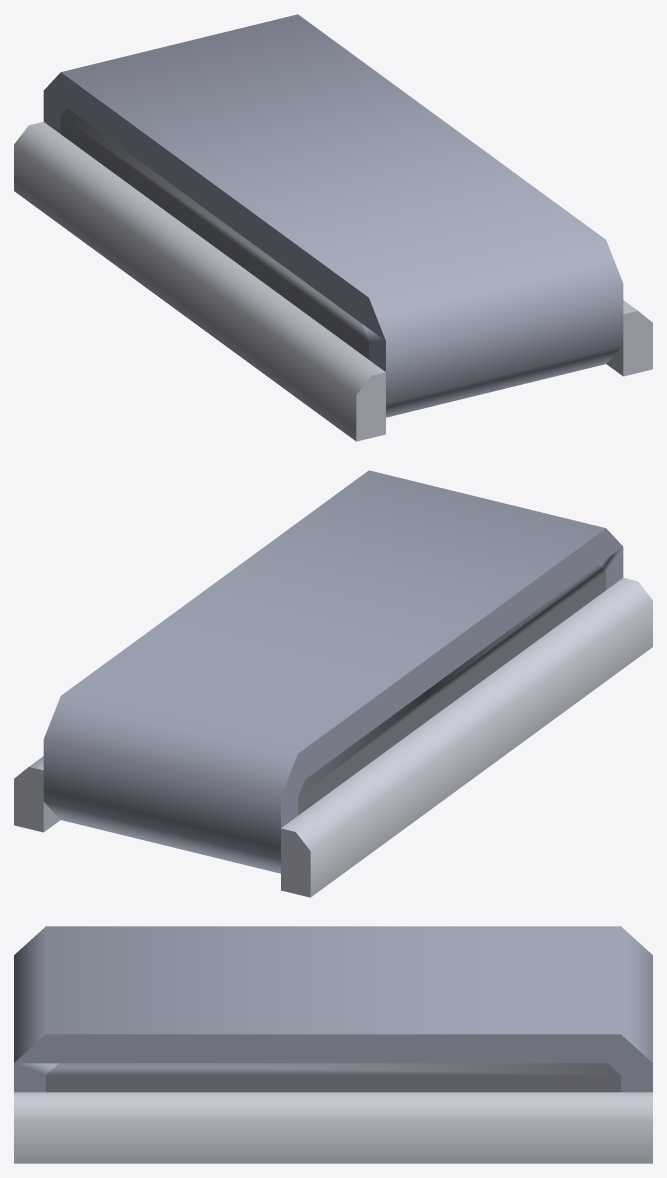
The model's file is conveyor-long-sides.fbx.
The picture shows the model from 3 angles, top to bottom: view 1: azimuth 30°, elevation 25°; view 2: azimuth 150°, elevation 25°; view 3: azimuth 270°, elevation 25°; orthographic projection. The views are drawn at different scales.
Visible parts, largest first — view 1: Group.015, Group.014; view 2: Group.015, Group.014; view 3: Group.015, Group.014.
Boxes of the visible parts, <box> form: Group.015: <box>43,14,623,417</box>; Group.014: <box>14,122,652,441</box>; Group.015: <box>43,470,623,873</box>; Group.014: <box>14,578,652,897</box>; Group.015: <box>14,926,652,1092</box>; Group.014: <box>14,1092,652,1163</box>.
Bounding box in the file's own units: 100 × 40 × 200.
